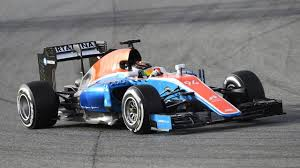FormulaOneCar: (15, 34, 288, 137)
